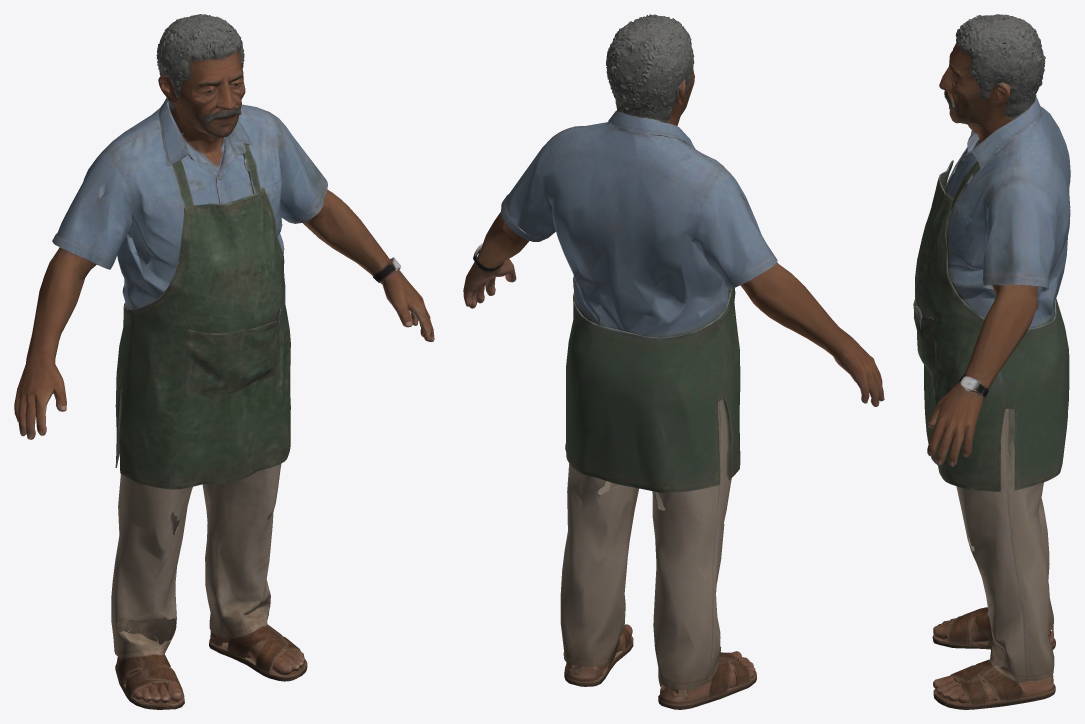
The model's file is npc-seu-joao-hd.glb.
3 renders of one model, left to right at view 1: azimuth 30°, elevation 25°; view 2: azimuth 150°, elevation 25°; view 3: azimuth 270°, elevation 25°, orthographic.
Parts seen in each view (by area): view 1: npc-seu-joao-hd0; view 2: npc-seu-joao-hd0; view 3: npc-seu-joao-hd0.
Part boxes in pixels (box(x1,y1,x2,y2)): npc-seu-joao-hd0: box(14, 14, 434, 709); npc-seu-joao-hd0: box(463, 14, 884, 709); npc-seu-joao-hd0: box(913, 14, 1070, 709).
Bounding box in the file's own units: 1.25 × 1.9 × 0.4173.
Materials: 1 (1 with a texture image).
